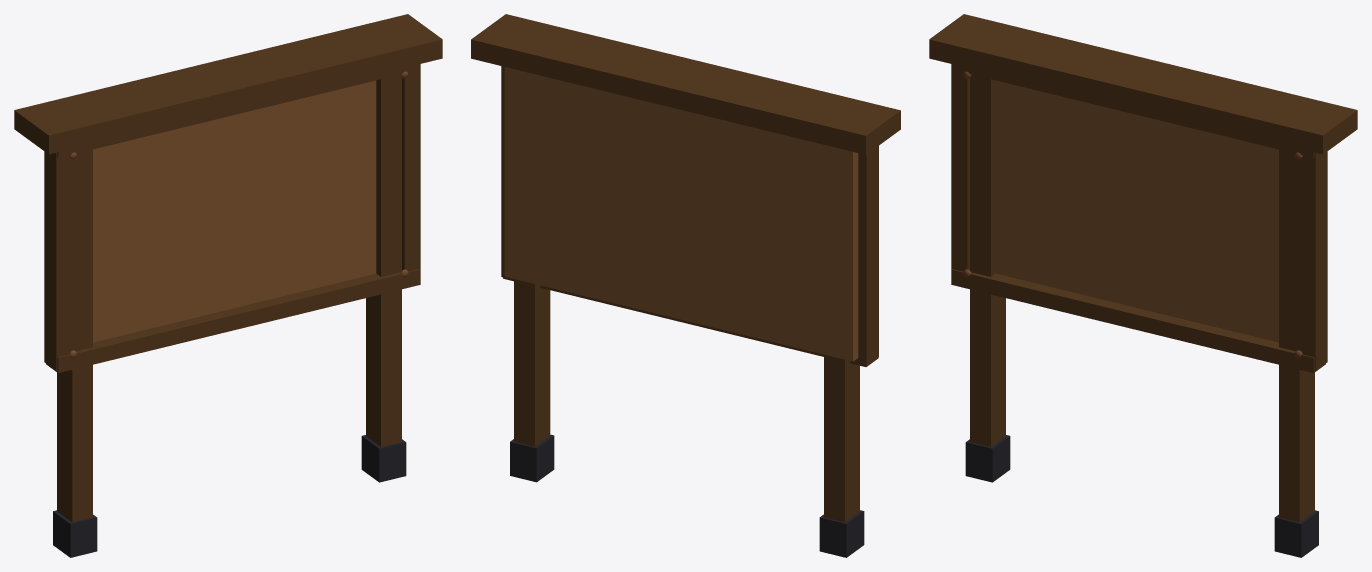
File: mia-notice_board.glb
3 renders of one model, left to right at view 1: azimuth 30°, elevation 25°; view 2: azimuth 150°, elevation 25°; view 3: azimuth 330°, elevation 25°, orthographic.
Parts seen in each view (by area): view 1: Body_wood, Body_oak, Body_iron; view 2: Body_oak, Body_wood, Body_iron; view 3: Body_wood, Body_oak, Body_iron.
Part boxes in pixels (x1,y1,x2,y2): Body_wood: (14, 14, 442, 522); Body_oak: (93, 80, 376, 342); Body_iron: (53, 435, 406, 557); Body_oak: (504, 67, 858, 361); Body_wood: (471, 14, 900, 522); Body_iron: (510, 434, 864, 557); Body_wood: (929, 14, 1357, 522); Body_oak: (995, 80, 1278, 342); Body_iron: (965, 435, 1318, 557).
Bounding box in the file's own units: 1.92 × 2.03 × 0.294.
